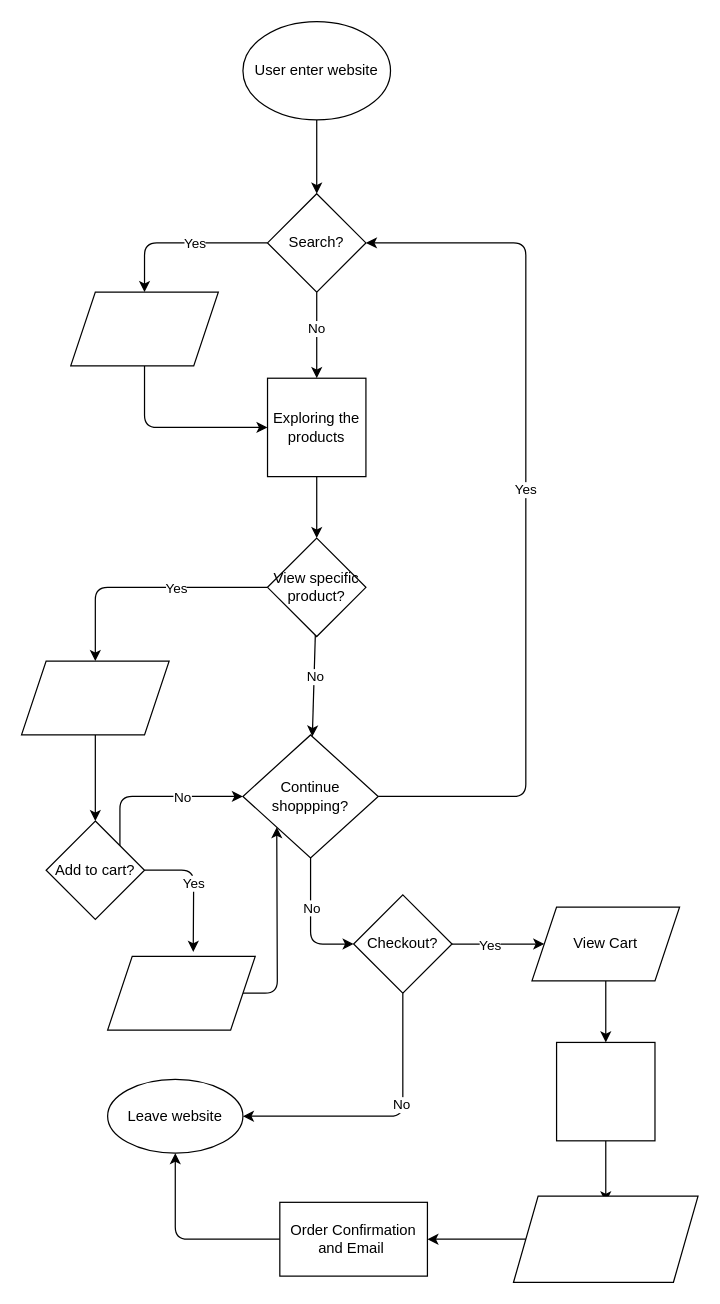
This 720x1304 diagram has some shape labels left out. The shapes that lost their labels are listed below. From the top down, each one's box as (x1, y1, x2, y2) in pixels, then its label:
(69, 291, 218, 366): Search with User input
(20, 660, 169, 735): Open product webpage
(106, 955, 255, 1030): Add to cart confitmation
(555, 1041, 655, 1141): View Payment
(512, 1195, 698, 1282): Payment Info
